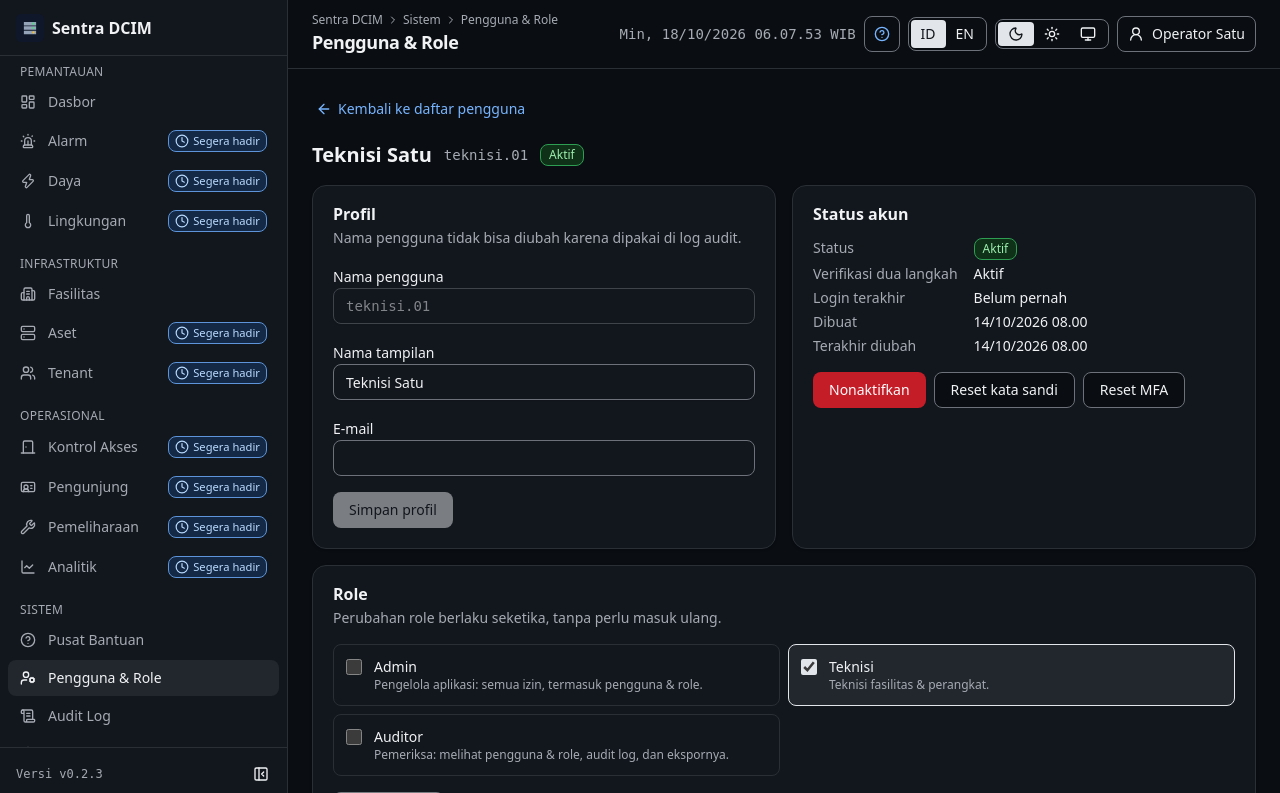
users & roles › disables a user after confirmation and resets a password
The image size is (1280, 793).
Click the button with test id "toggle-status" at (869, 390), box [813,372,926,408]
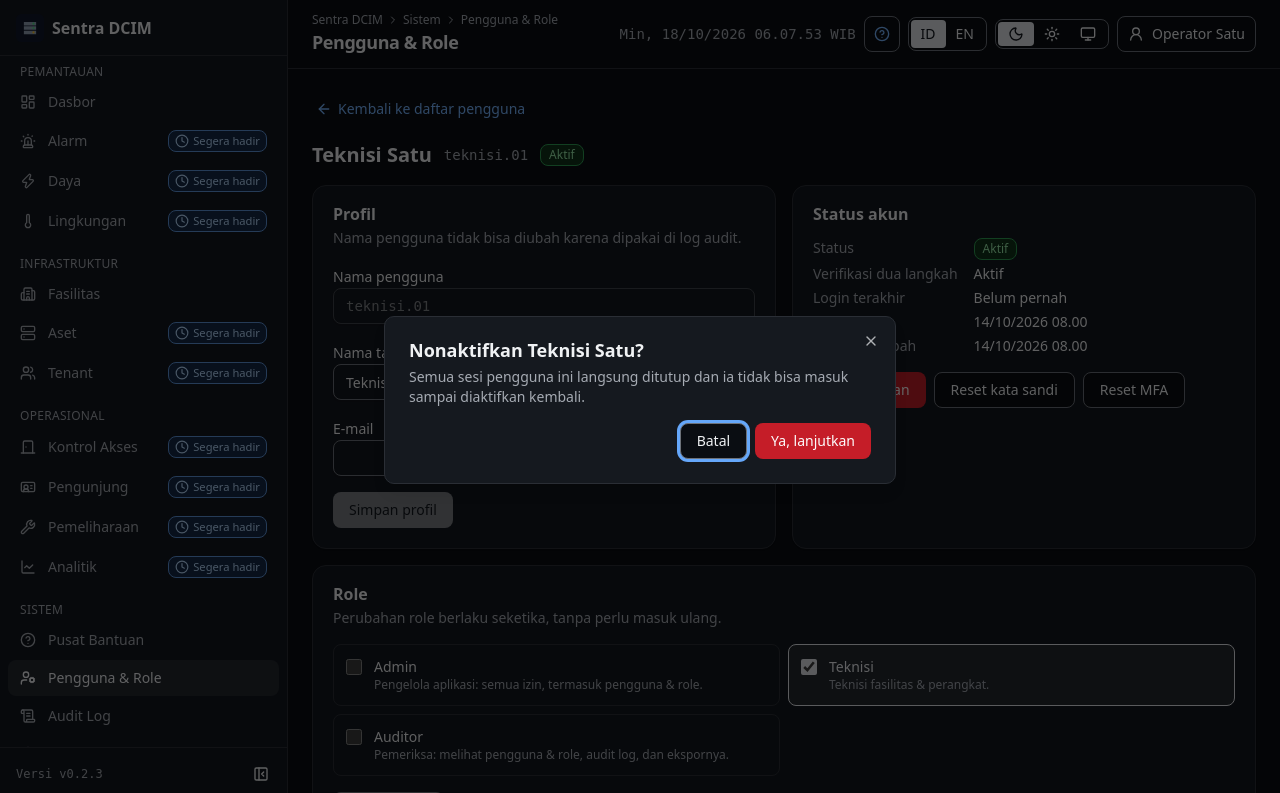
Now the dialog with test id "confirm-dialog" shows "Semua sesi pengguna ini langsung ditutup dan ia tidak bisa masuk sampai diaktifkan kembali.", box [409,367,848,406]
Click the button with test id "confirm" at (813, 441), box [755,423,871,459]
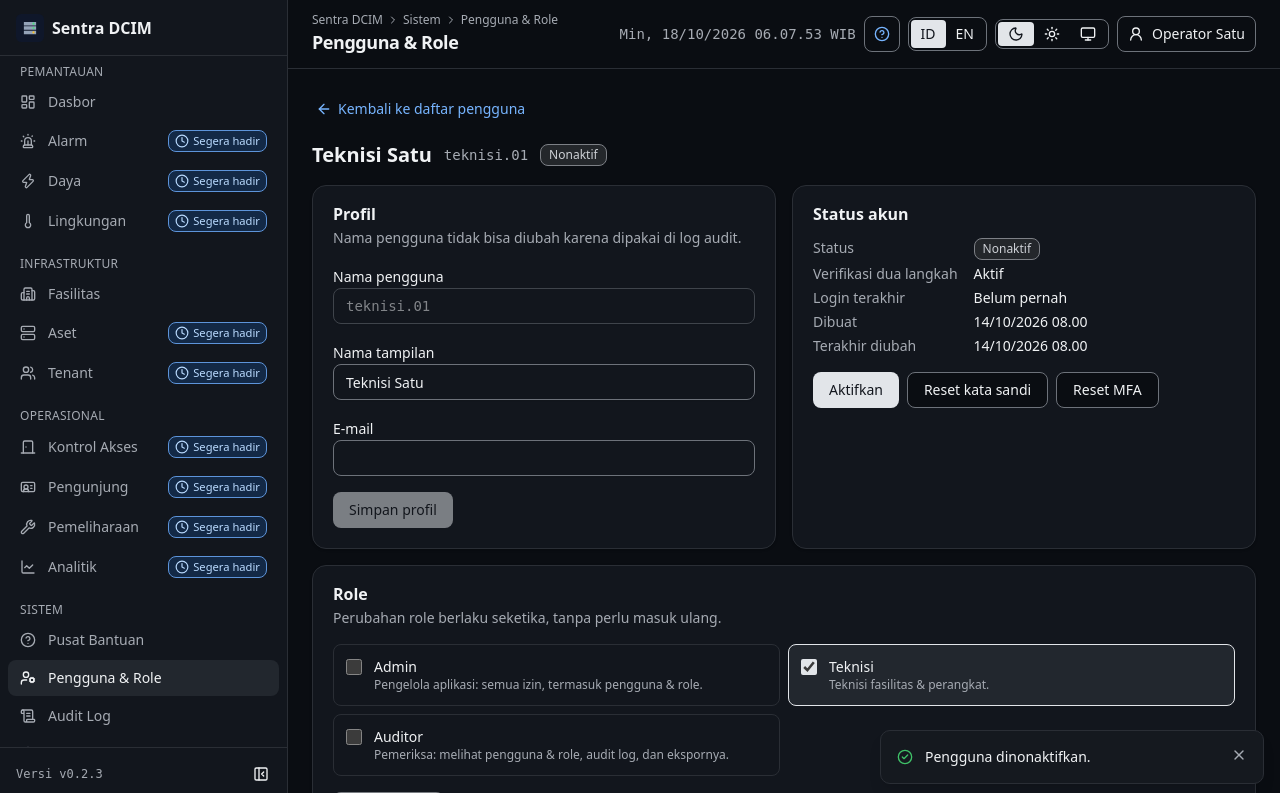
Now the button with test id "toggle-status" reads "Aktifkan", box [813,372,899,408]
Click the button with test id "reset-password" at (978, 390), box [907,372,1048,408]
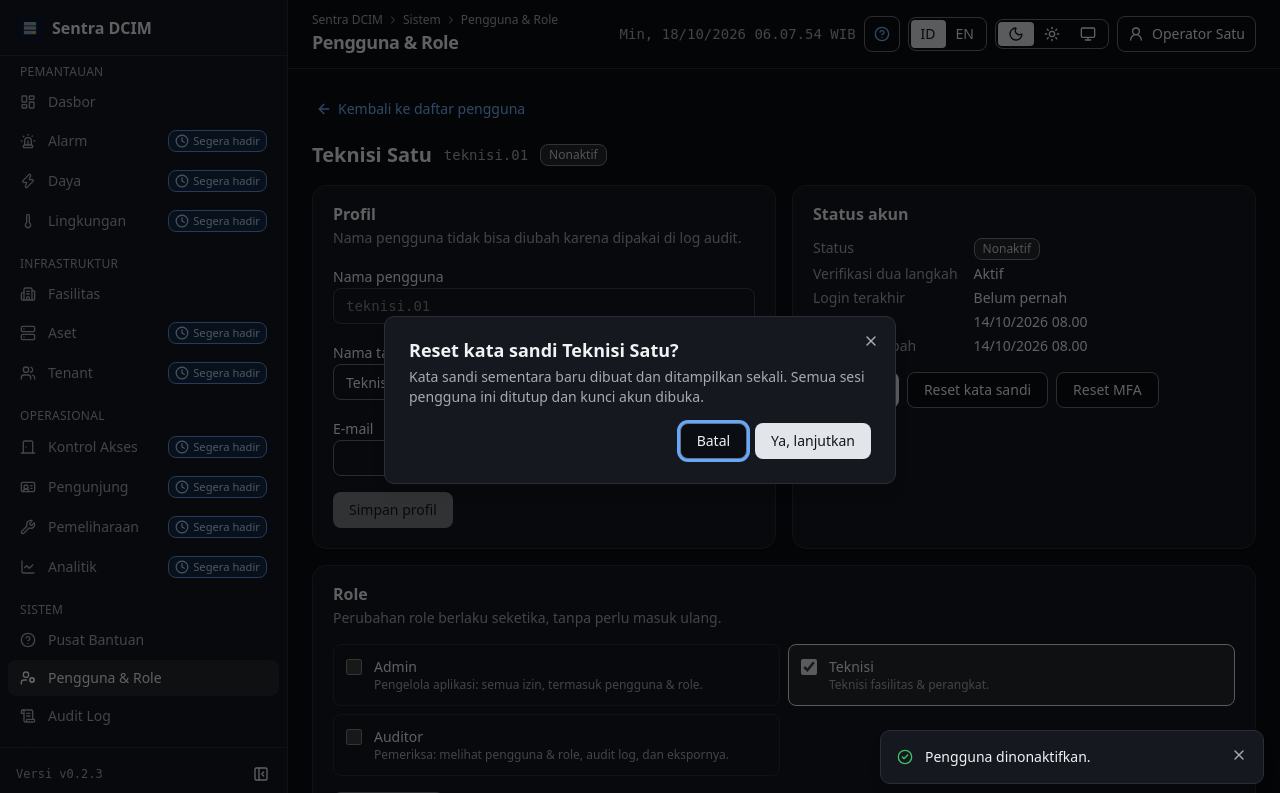
Click the button with test id "confirm" at (813, 441), box [755,423,871,459]
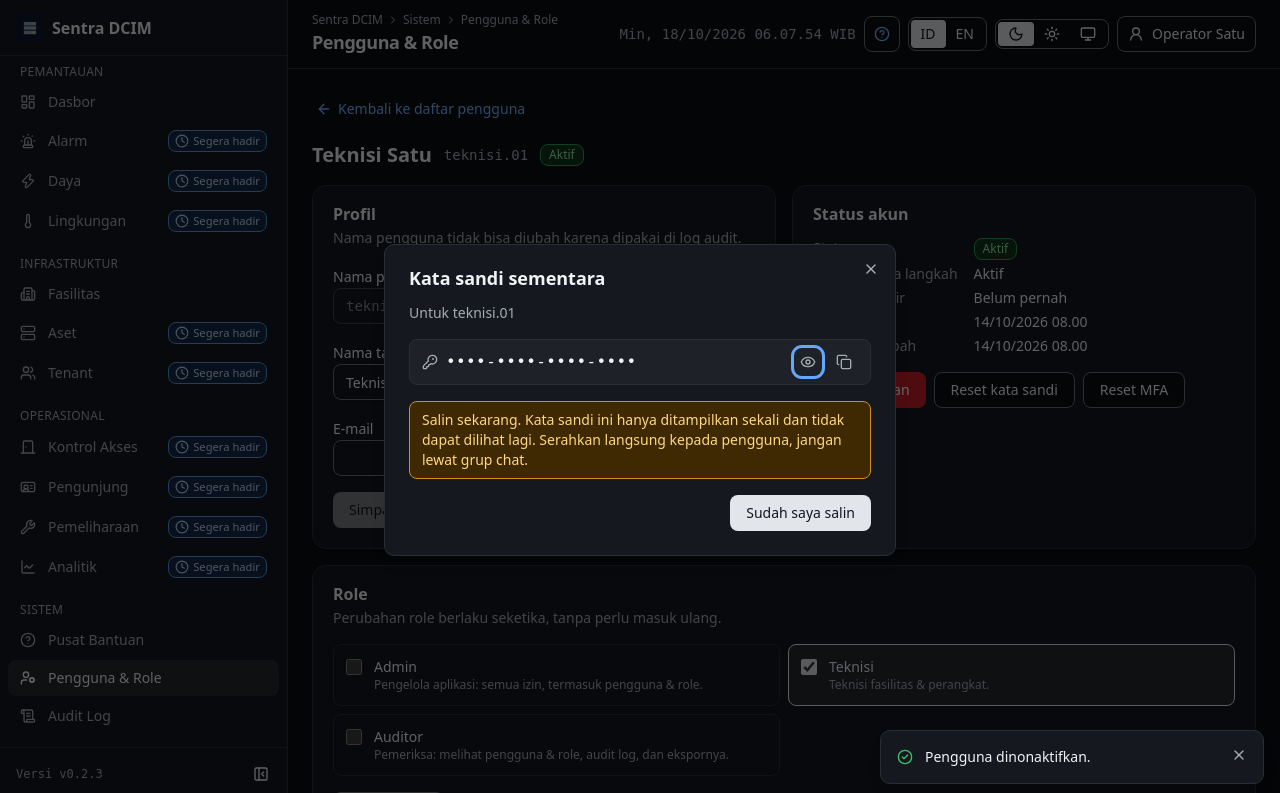
Expected: the text with test id "temporary-password-value" does not show "abcd-efgh-jkmn-pqrs", [446,352,637,371]
Click the button with test id "password-toggle" at (808, 362), box [794,348,822,376]
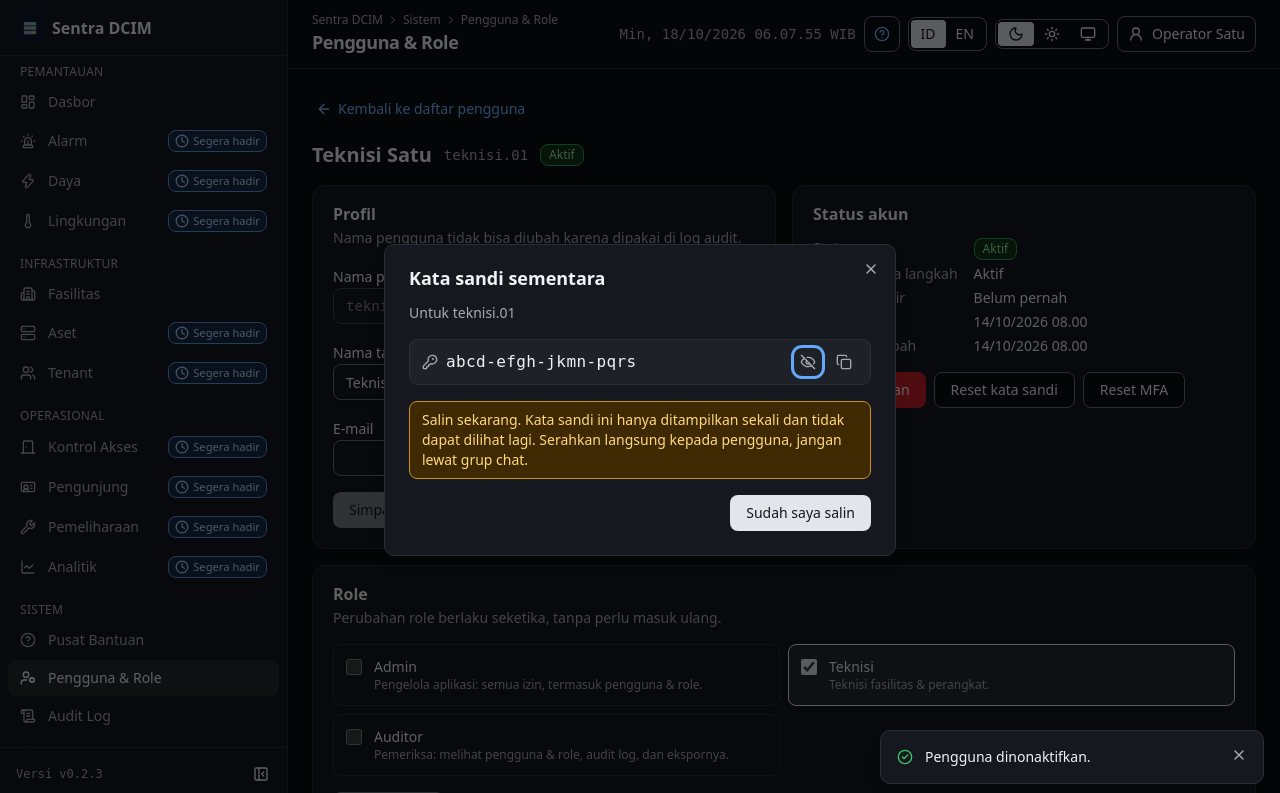
Now the text with test id "temporary-password-value" reads "abcd-efgh-jkmn-pqrs", box [446,352,637,371]
